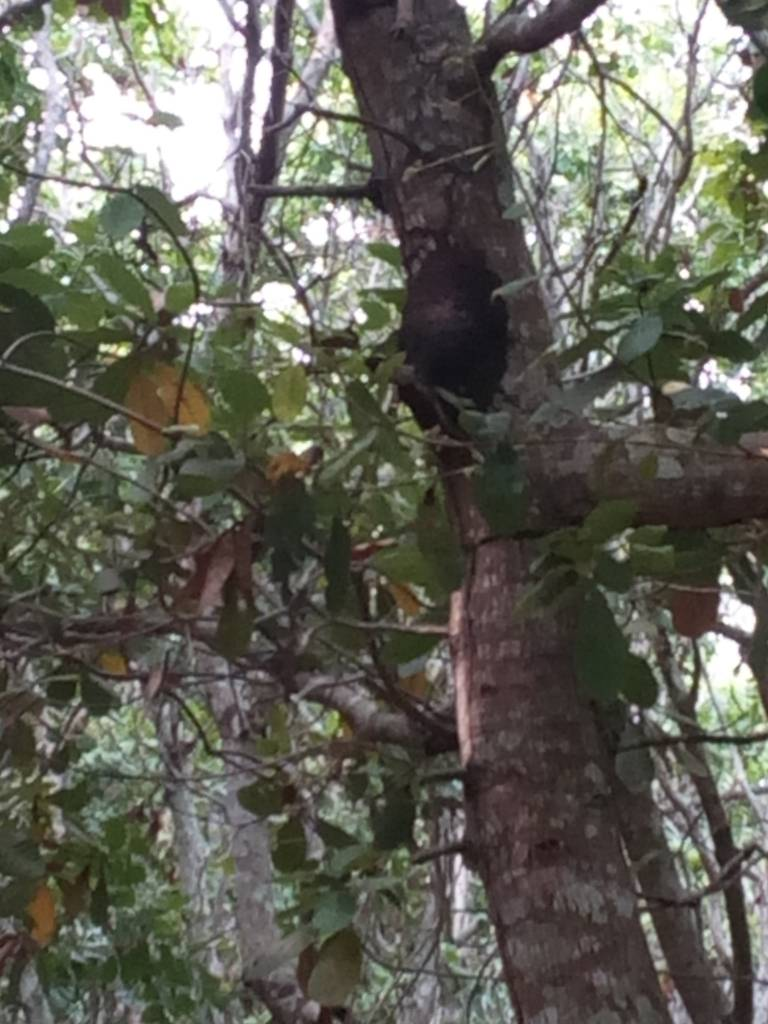Termites: (410, 246, 505, 399)
